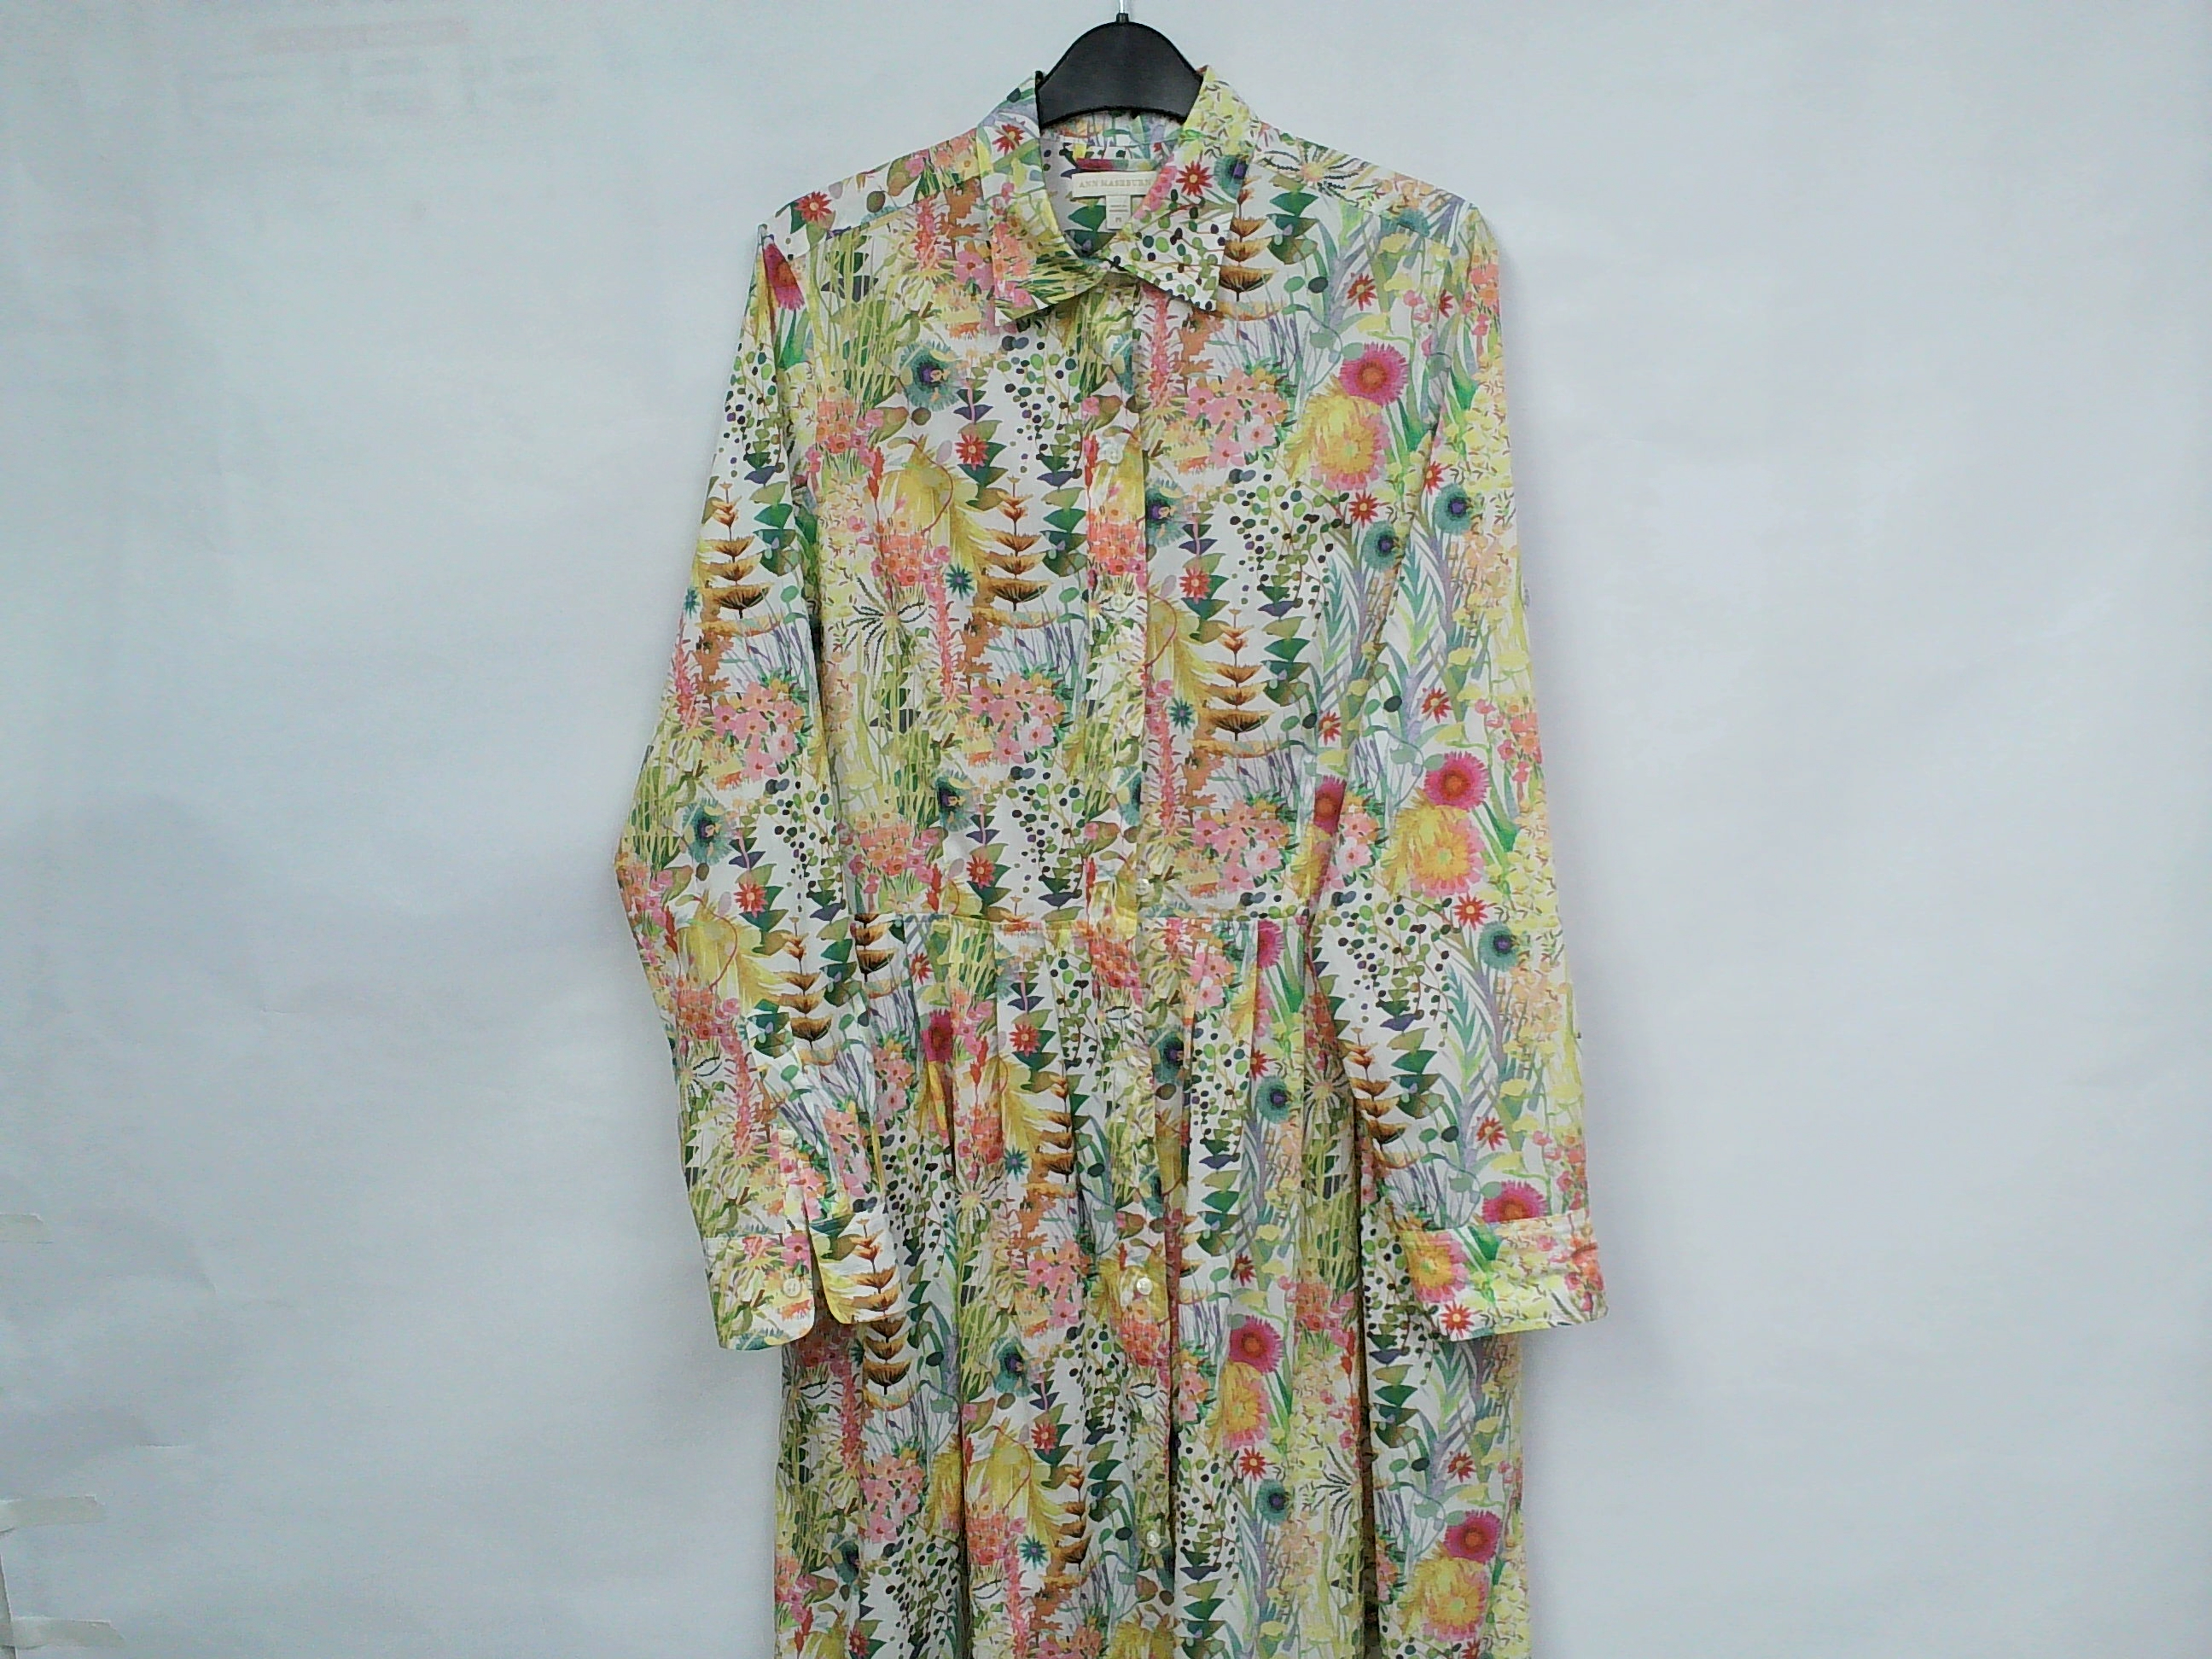structural: (1376, 1192, 1634, 1347)
